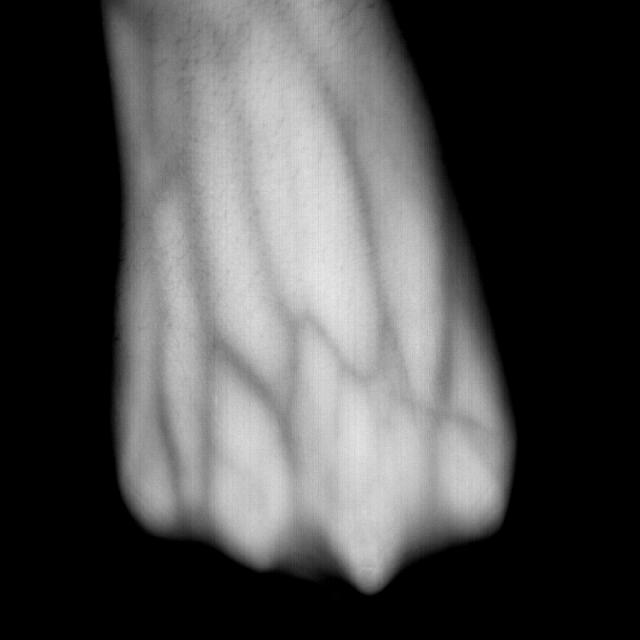Vein: (141, 68, 301, 452), (296, 46, 457, 424)
